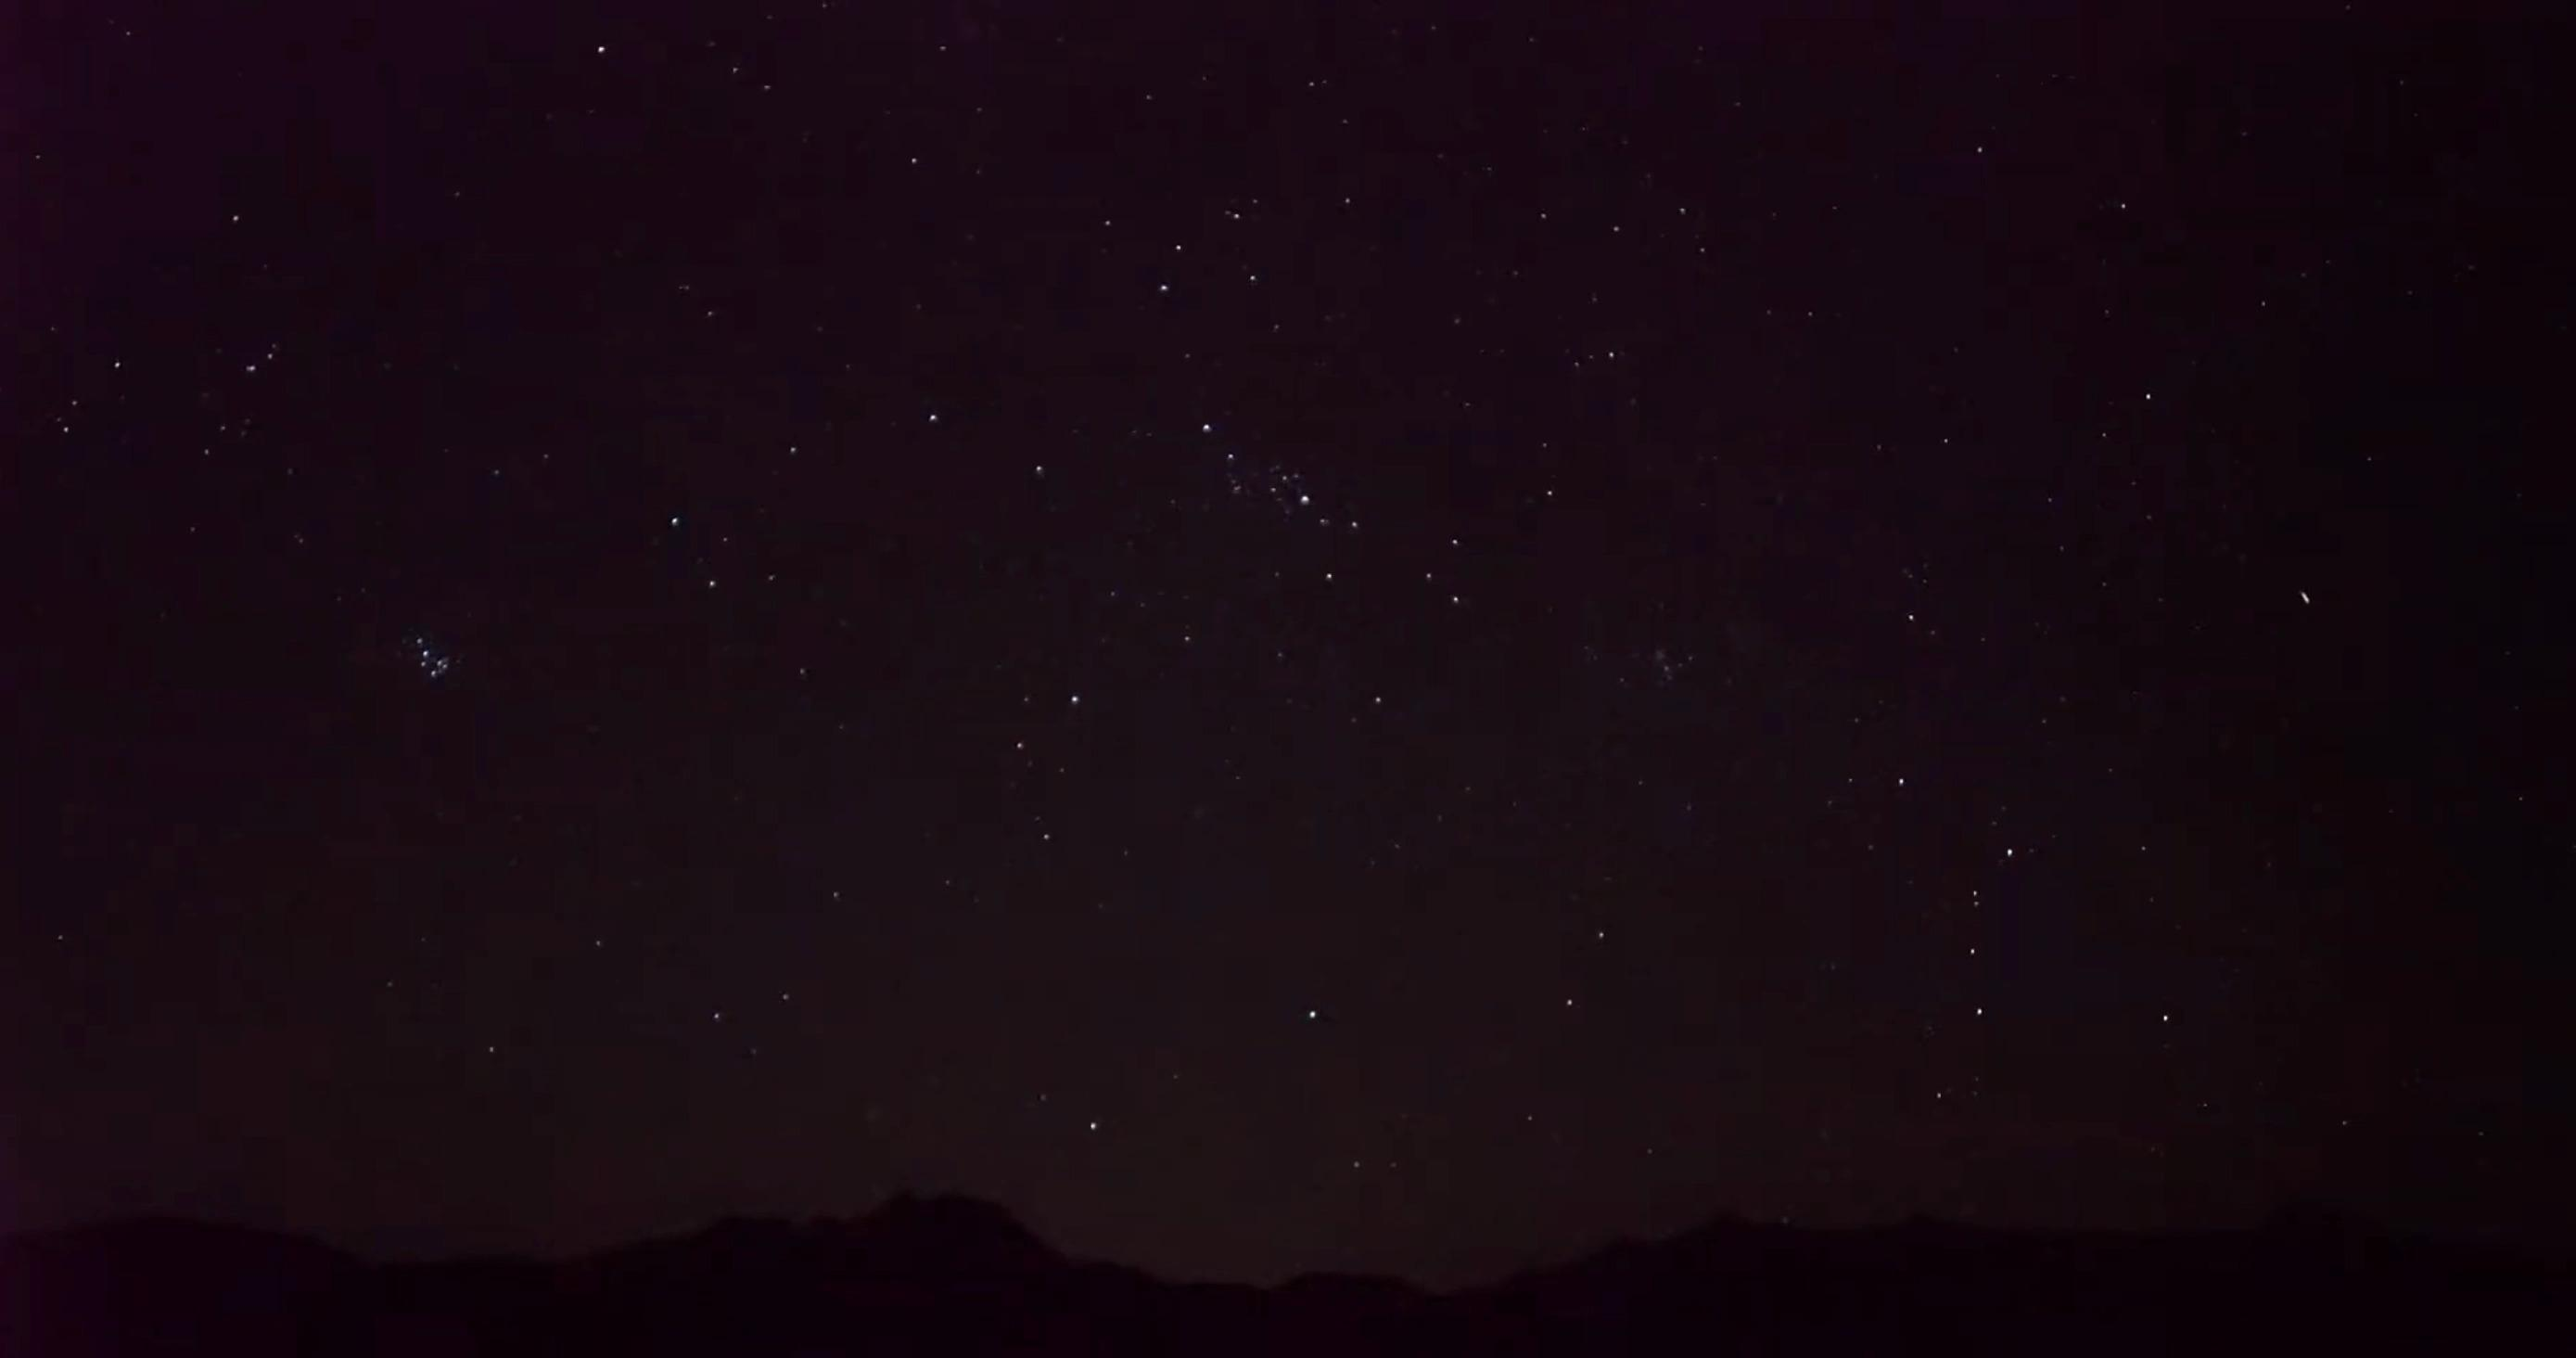meteorite: (2288, 581, 2326, 620)
